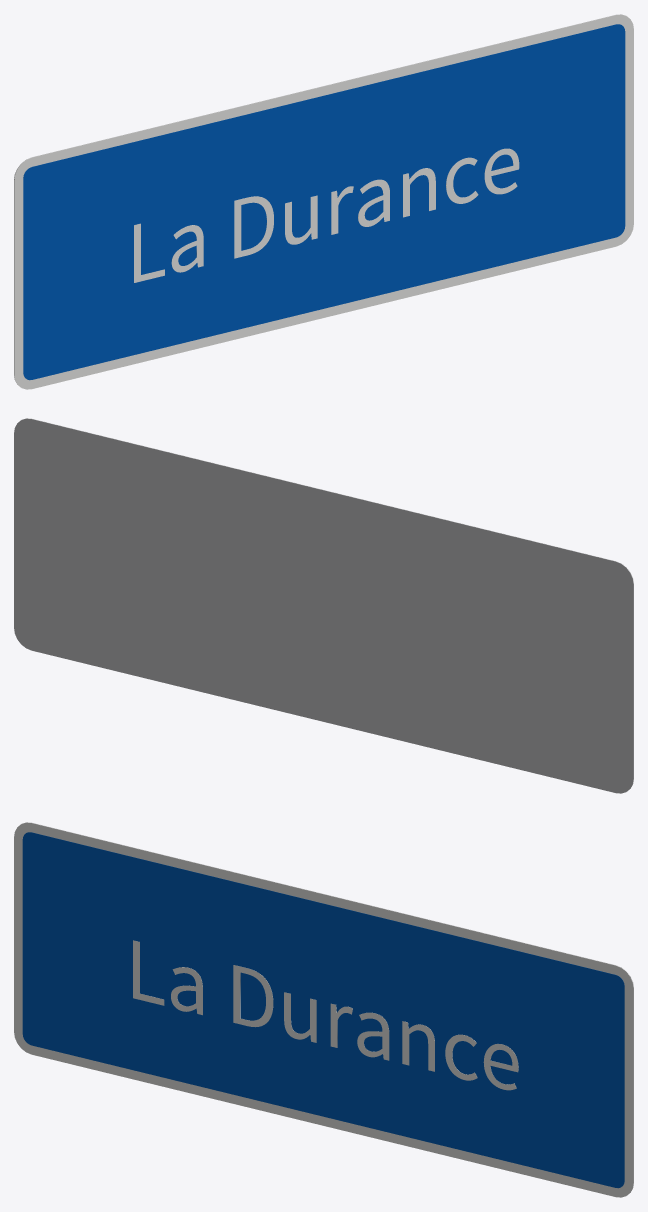
The picture shows the model from 3 angles, top to bottom: view 1: azimuth 30°, elevation 25°; view 2: azimuth 150°, elevation 25°; view 3: azimuth 330°, elevation 25°; orthographic projection.
Parts seen in each view (by area): view 1: E32_fond01, E32_cadre00, E32_txt02, E32_dos; view 2: E32_dos; view 3: E32_fond01, E32_cadre00, E32_txt02, E32_dos.
Boxes of the visible parts, x1,y1,x2,y2 form: E32_fond01: (23,24,625,380); E32_cadre00: (14,14,633,389); E32_txt02: (134,148,519,282); E32_dos: (14,14,622,384); E32_dos: (14,418,633,793); E32_fond01: (22,832,624,1188); E32_cadre00: (14,822,633,1197); E32_txt02: (133,940,518,1090); E32_dos: (25,822,633,1192).
Size of the model in its own units: 1.4 by 0.5 by 0.0025.
